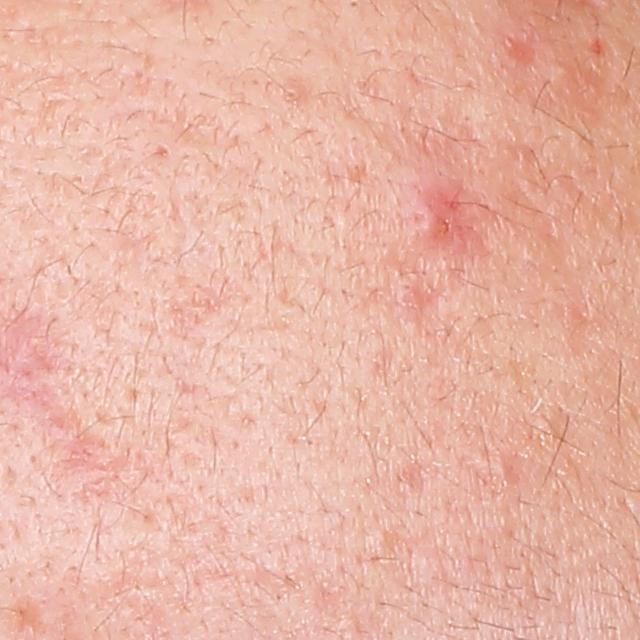comedo: (282, 83, 302, 104)
